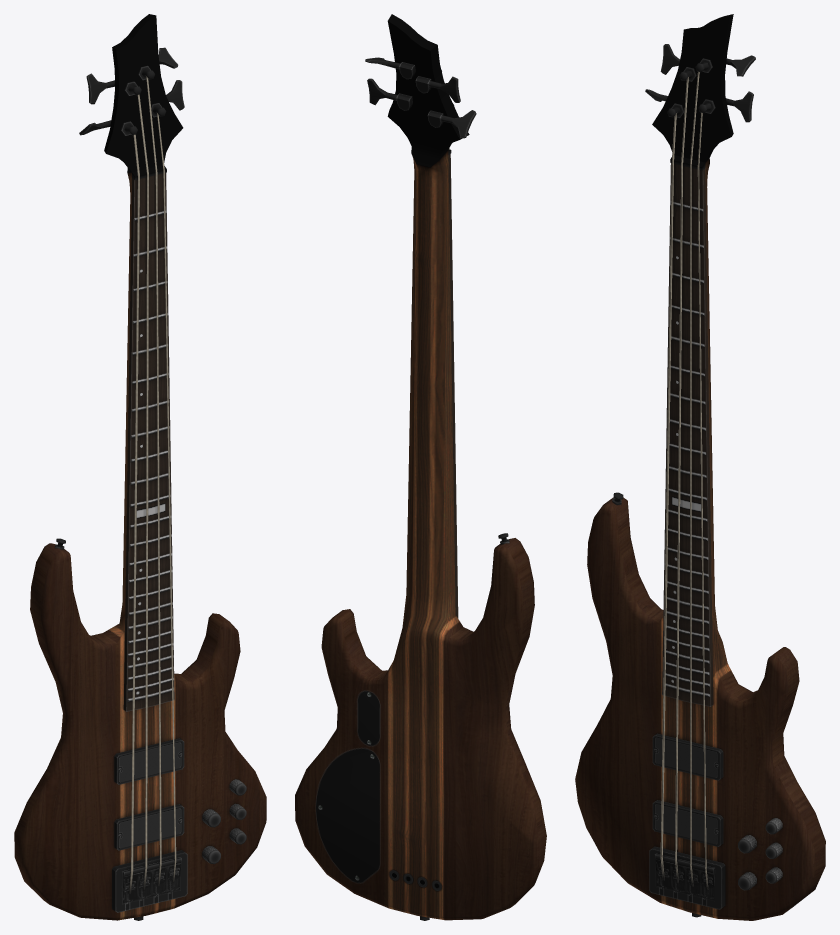
The picture shows the model from 3 angles, left to right: view 1: azimuth 30°, elevation 25°; view 2: azimuth 150°, elevation 25°; view 3: azimuth 330°, elevation 25°; orthographic projection.
Parts seen in each view (by area): view 1: BassGuitar_BassGuitar_mtl_0; view 2: BassGuitar_BassGuitar_mtl_0; view 3: BassGuitar_BassGuitar_mtl_0.
Boxes of the visible parts, box(x1,y1,x2,y2) form: BassGuitar_BassGuitar_mtl_0: box(14, 14, 266, 920); BassGuitar_BassGuitar_mtl_0: box(295, 14, 546, 920); BassGuitar_BassGuitar_mtl_0: box(575, 14, 825, 920).
Bounding box in the file's own units: 31.3 × 111 × 7.22.
Materials: 1 (1 with a texture image).
